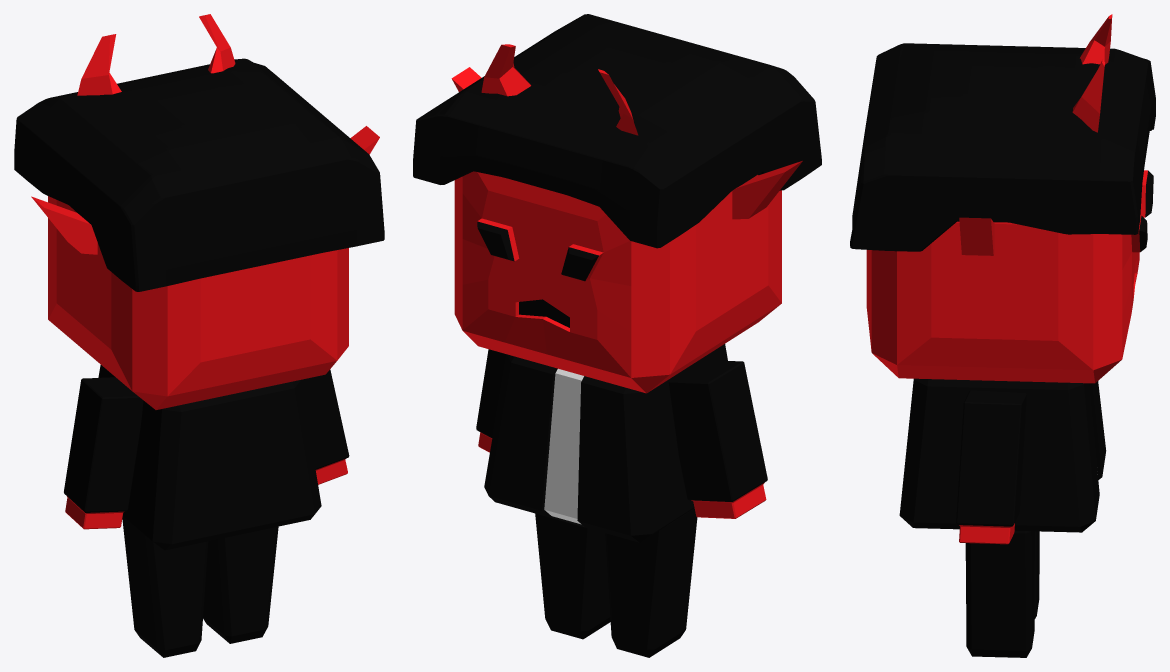
Rendered from DevilModel_3.fbx.
The picture shows the model from 3 angles, left to right: view 1: azimuth 30°, elevation 25°; view 2: azimuth 150°, elevation 25°; view 3: azimuth 270°, elevation 25°; orthographic projection. The views are drawn at different scales.
Visible parts, largest first — view 1: Hair, Head, Torso, LegLeft, Arm; view 2: Hair, Head, Torso, LegLeft, Arm; view 3: Hair, Head, Torso, Arm, LegLeft.
Boxes of the visible parts, box(x1,y1,x2,y2) form: Hair: box(14, 58, 384, 291); Head: box(31, 14, 379, 409); Torso: box(98, 365, 321, 550); LegLeft: box(122, 516, 278, 657); Arm: box(64, 369, 349, 529); Hair: box(413, 14, 821, 248); Head: box(451, 44, 802, 393); Torso: box(484, 344, 727, 542); LegLeft: box(535, 508, 697, 657); Arm: box(476, 349, 767, 518); Hair: box(850, 43, 1155, 251); Head: box(866, 14, 1153, 383); Torso: box(899, 378, 1106, 532); Arm: box(956, 390, 1026, 544); LegLeft: box(965, 530, 1039, 657).
Bounding box in the file's own units: 190 × 320 × 149.
